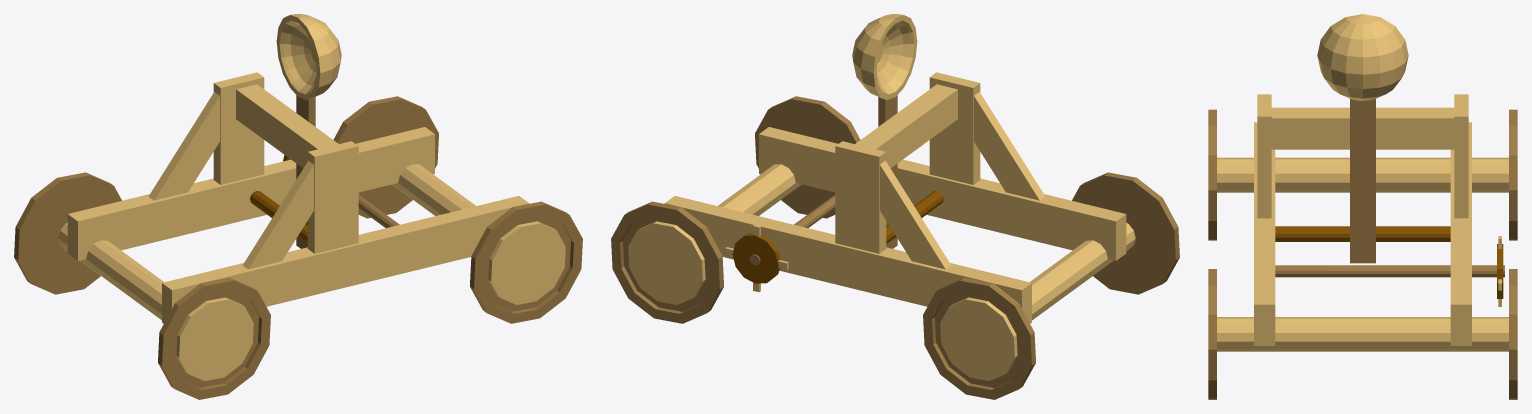
Rendered from cringe2.fbx.
3 views of the same model, side by side, from view 1: azimuth 30°, elevation 25°; view 2: azimuth 150°, elevation 25°; view 3: azimuth 270°, elevation 25° (orthographic). The views are drawn at different scales.
Parts seen in each view (by area): view 1: Cylinder.002, Circle.002, Circle.005, Circle.003, Cube.002, Circle.001; view 2: Cylinder.002, Circle.003, Circle.001, Circle.002, Cube.002, Circle.005, Circle.004; view 3: Cylinder.002, Cube.002, Circle.002, Circle.003, Circle.001, Circle.005, Circle.004.
Part boxes in pixels (x1,y1,x2,y2): Cylinder.002: [58, 72, 529, 323]; Circle.002: [158, 277, 270, 399]; Circle.005: [470, 201, 582, 323]; Circle.003: [14, 172, 121, 294]; Cube.002: [276, 14, 341, 248]; Circle.001: [333, 96, 438, 218]; Cylinder.002: [664, 72, 1135, 323]; Circle.003: [923, 277, 1035, 399]; Circle.001: [611, 201, 723, 323]; Circle.002: [1072, 172, 1179, 294]; Cube.002: [852, 14, 917, 248]; Circle.005: [755, 96, 860, 218]; Circle.004: [725, 225, 788, 292]; Cylinder.002: [1217, 94, 1508, 351]; Cube.002: [1317, 14, 1408, 263]; Circle.002: [1208, 109, 1216, 240]; Circle.003: [1509, 109, 1517, 240]; Circle.001: [1509, 269, 1517, 399]; Circle.005: [1208, 269, 1216, 399]; Circle.004: [1497, 236, 1503, 306].
Bounding box in the file's own units: 756 × 493 × 460.
